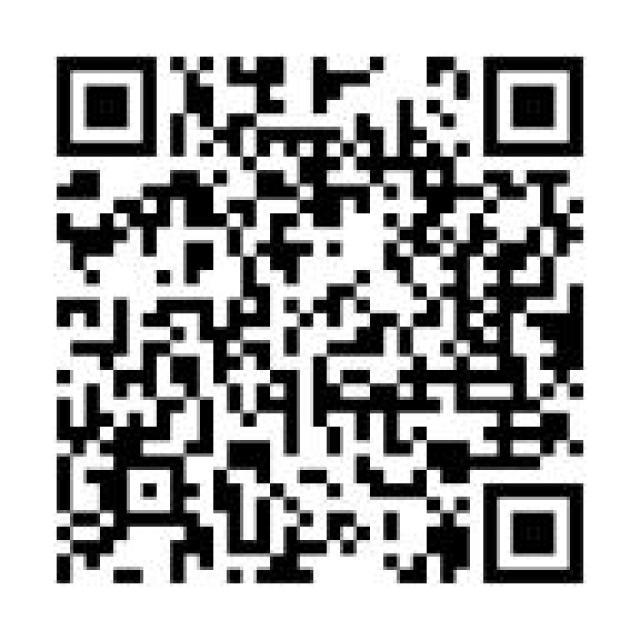qr_code: (56, 56, 584, 584)
